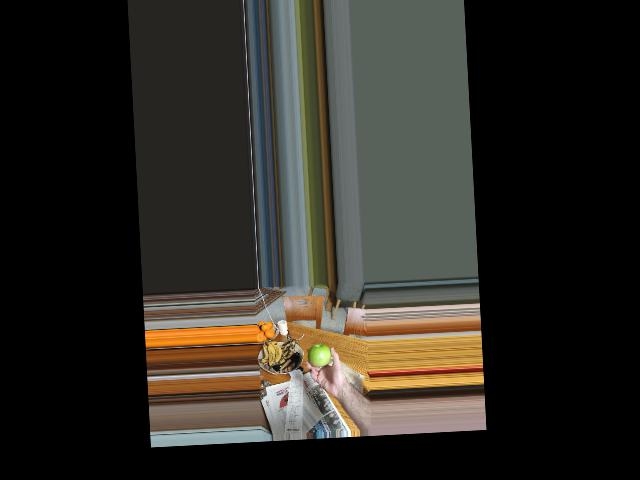apple: (308, 342, 335, 370)
